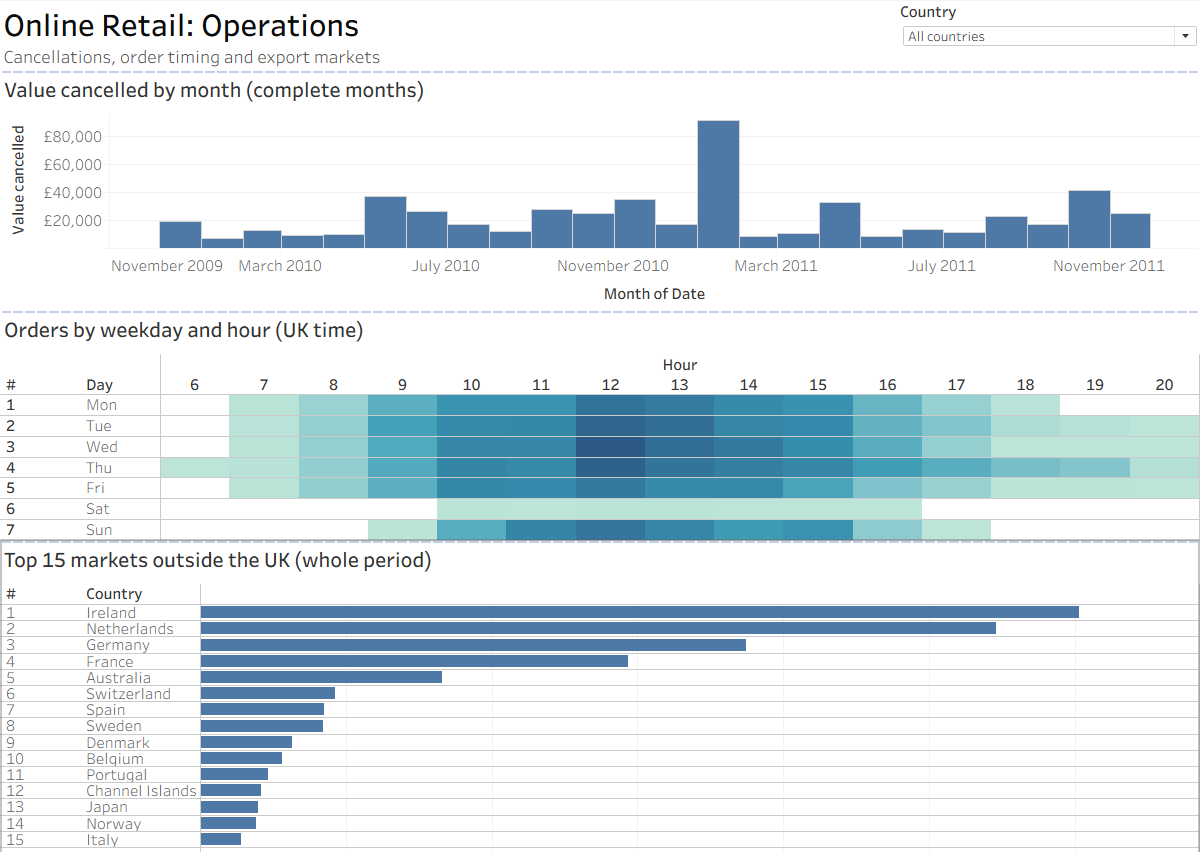

The page's visual inventory and layout, read from the dashboard file:
{"tool":"tableau","page":{"name":"Operations","canvas":[1200,950],"ordinal":2},"visuals":[{"type":"text","box":[0,0,900,60]},{"type":"parameter","param":"[Parameters].[Parameter 1]","box":[920,10,270,50]},{"type":"worksheet","title":"Cancellations by Month","mark":"Bar","rows":["Calculation_value_cancelled"],"cols":["month_start"],"box":[0,60,1200,290]},{"type":"worksheet","title":"Order Timing","mark":"Square","rows":["weekday_num","day"],"cols":["hour_of_day"],"box":[0,350,1200,270]},{"type":"worksheet","title":"Markets","mark":"Bar","rows":["market_rank","country"],"cols":["net_revenue"],"box":[0,620,1200,280]},{"type":"text","box":[0,900,1200,50]}]}

Visuals, with their boxes on the page's 1200x950 design canvas (x1, y1, x2, y2). These are canvas units, not pixel positions in the 1200x852 screenshot, which may show the page scaled, cropped or inside an application window:
text: x1=0, y1=0, x2=900, y2=60
parameter: x1=920, y1=10, x2=1190, y2=60
"Cancellations by Month" worksheet (Bar marks): x1=0, y1=60, x2=1200, y2=350
"Order Timing" worksheet (Square marks): x1=0, y1=350, x2=1200, y2=620
"Markets" worksheet (Bar marks): x1=0, y1=620, x2=1200, y2=900
text: x1=0, y1=900, x2=1200, y2=950
